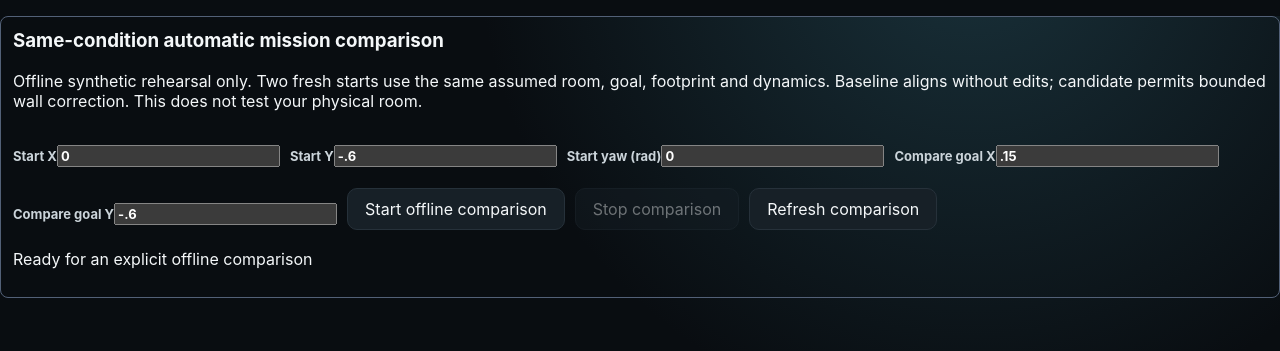
Test: executed automatic comparison › keeps polling after execution until the final report is saved
Click the button "Start offline comparison". click: (456, 209)
box: [347,188,565,230]
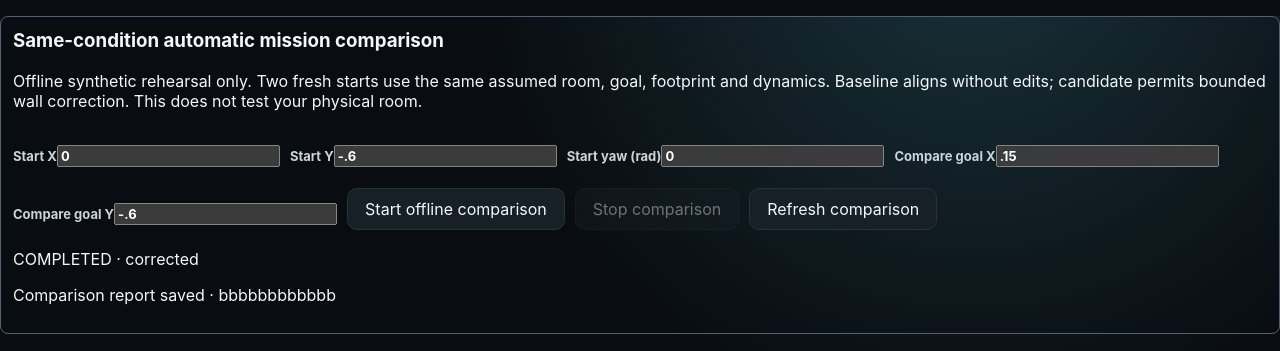
Check: the text "Comparison report saved" is shown, box [13,285,218,305]
